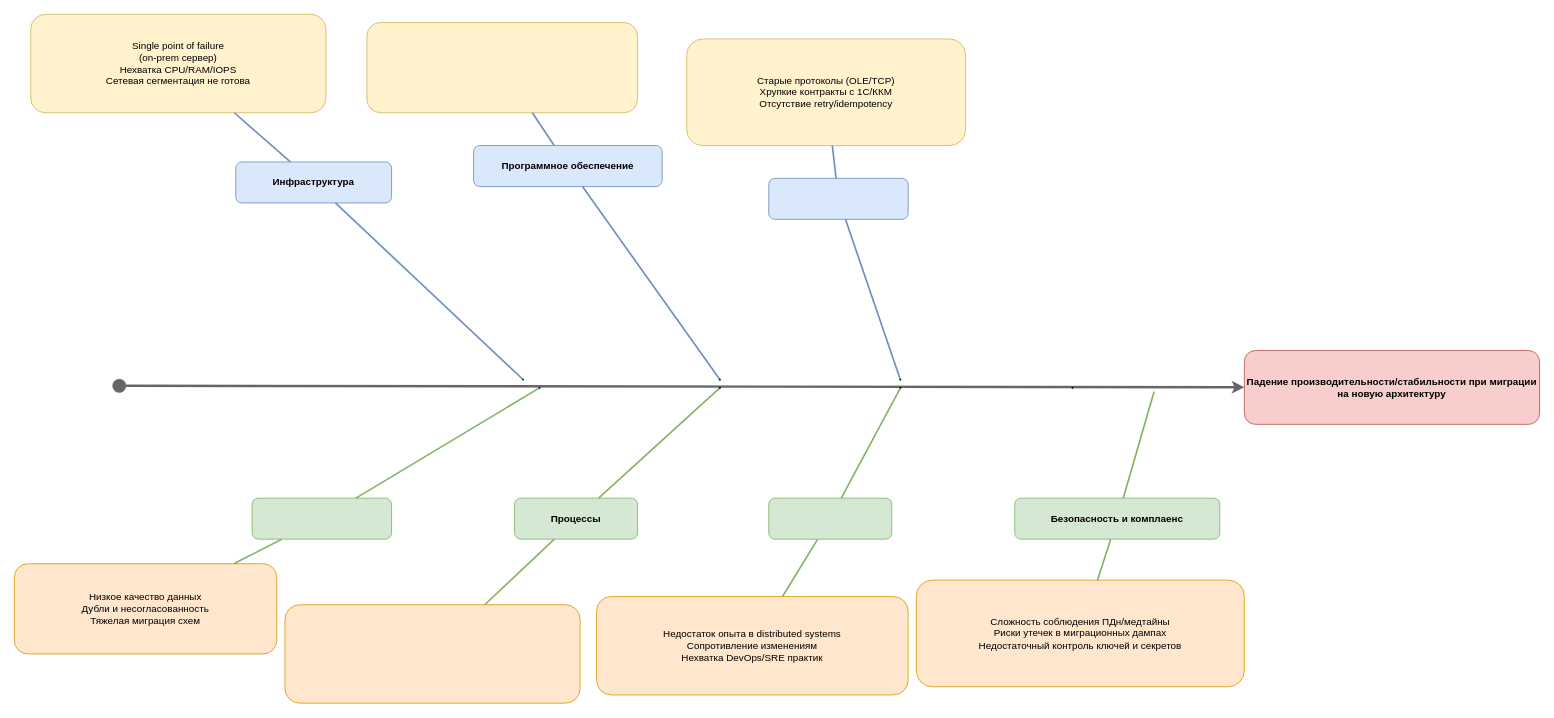
The diagram is 1554 pixels wide and 718 high, and some of its shapes have lost their labels. Here are the shapes that lost their labels. From the top down, the centre of each, then its label:
point (502, 67): Сильная связанность монолита Тяжелые транзакции Нет профилирования hot spots
point (838, 198): Интеграции
point (321, 518): Данные и БД
point (830, 518): Персонал
point (432, 653): Нет поэтапной миграции Слабый rollback-план Нет SLO/SLA и критериев готовности
